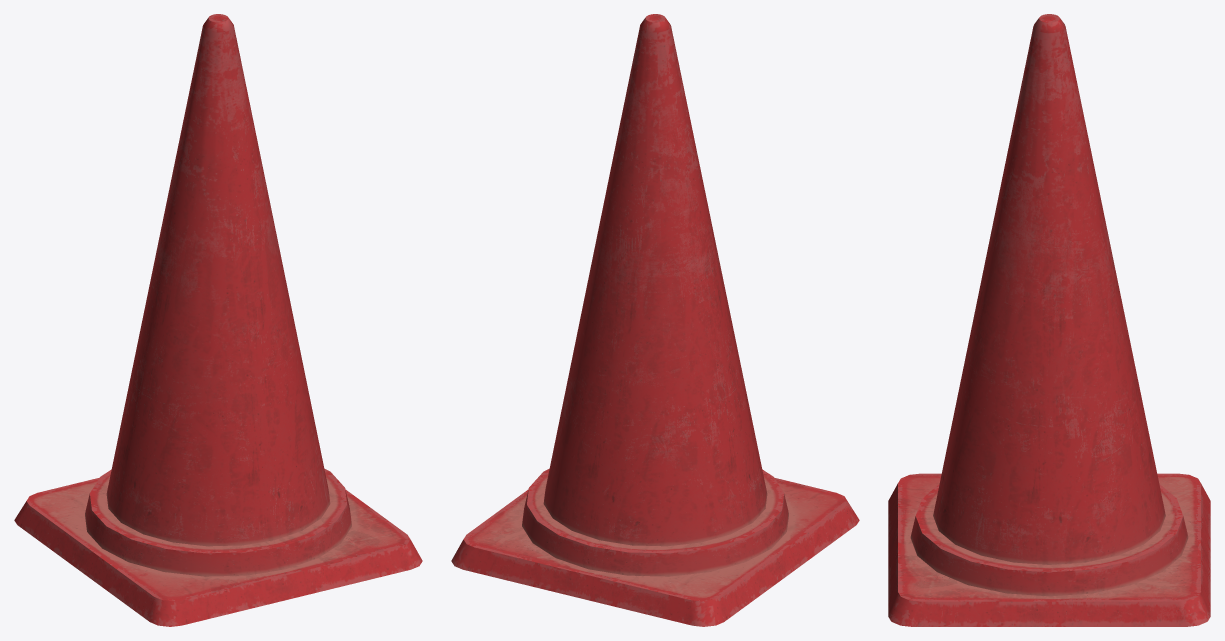
The model's file is roadcone.fbx.
The picture shows the model from 3 angles, left to right: view 1: azimuth 30°, elevation 25°; view 2: azimuth 150°, elevation 25°; view 3: azimuth 270°, elevation 25°; orthographic projection. The views are drawn at different scales.
Visible parts, largest first — view 1: roadcone; view 2: roadcone; view 3: roadcone.
Boxes of the visible parts, <box> form: roadcone: <box>14,14,422,626</box>; roadcone: <box>451,14,859,626</box>; roadcone: <box>888,14,1210,626</box>.
Size of the model in its own units: 40 by 74 by 40.
1 material, 1 textured.
